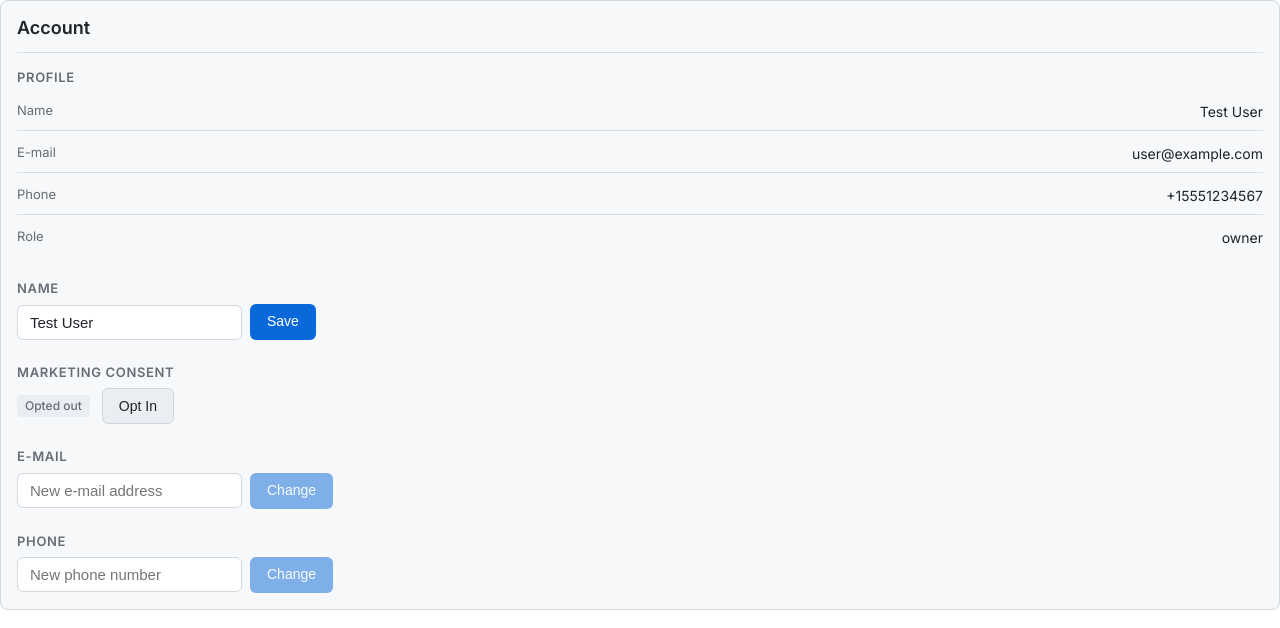
Test: AccountCard › with experimental writes enabled › marketing consent › toggling consent PUTs /api/account/consents then re-fetches /api/auth/status
Click the button "Opt In" at (138,406), box [102, 388, 174, 424]
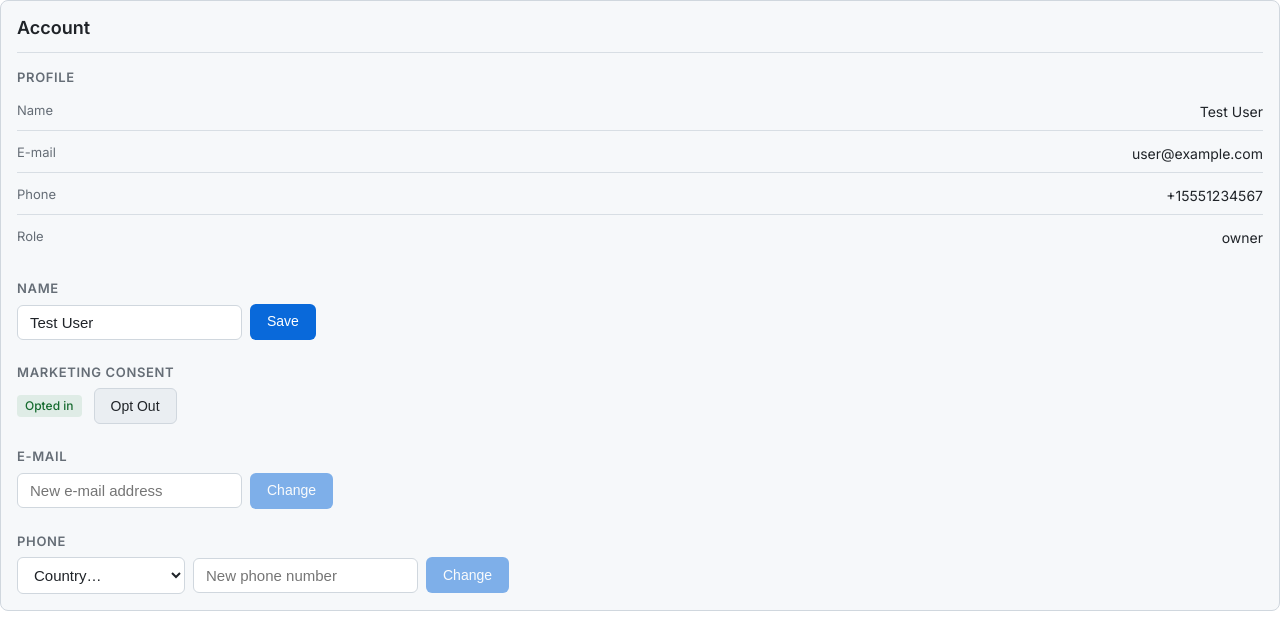
Expected: the text "Opted in" is shown, [17, 395, 82, 417]
